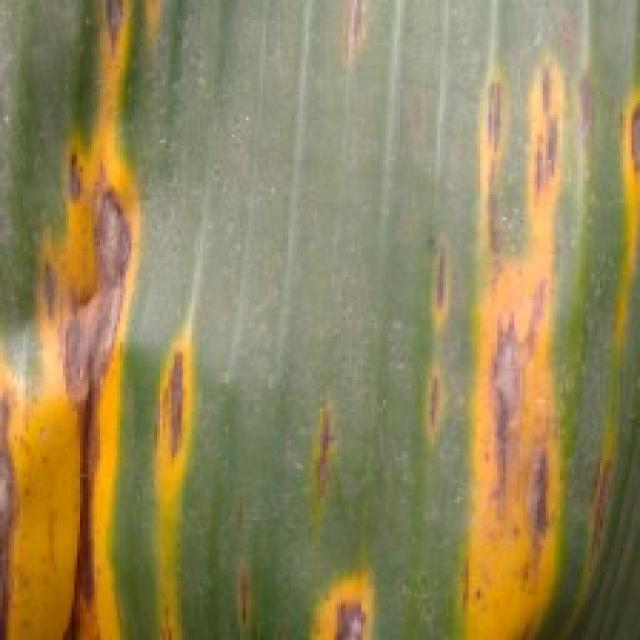Early_leaf_spot: (0, 0, 246, 640), (451, 20, 640, 640), (127, 317, 223, 637), (270, 363, 357, 506), (411, 220, 459, 456), (283, 531, 383, 640), (327, 0, 377, 95)
